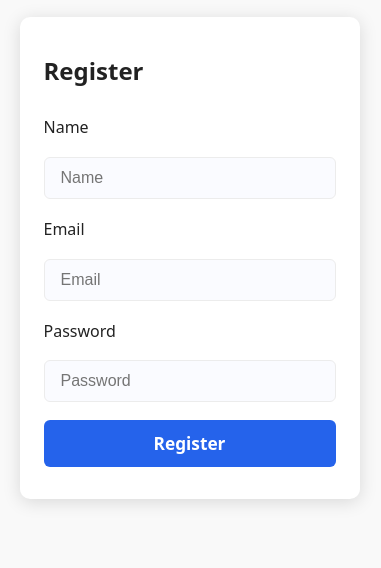
it: RegisterForm › validates required fields
The width and height of the screenshot is (381, 568).
Simulate clicking the register button without filling fields
Click the button "Register" at (190, 444), box [44,420,336,467]
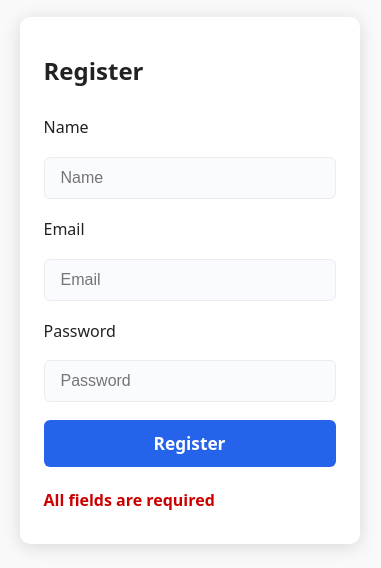
Check: the text "All fields are required" is shown, box [44,489,215,511]
